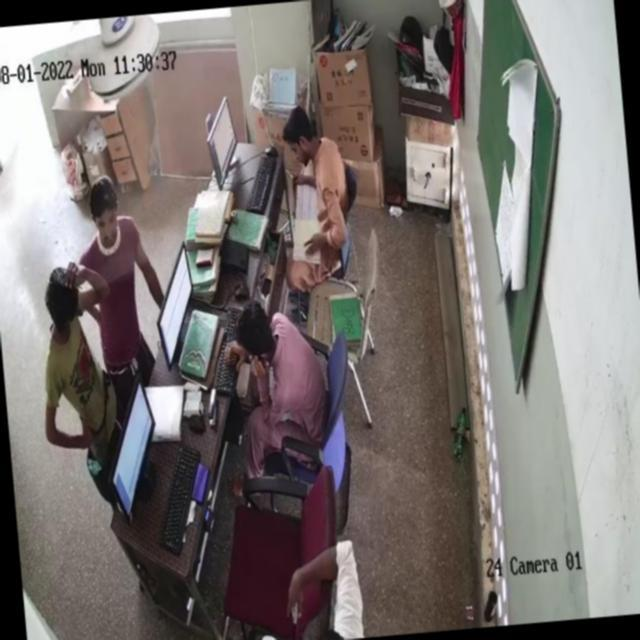person: (70, 182, 148, 384), (40, 270, 114, 457), (277, 99, 347, 283), (238, 293, 324, 436)
